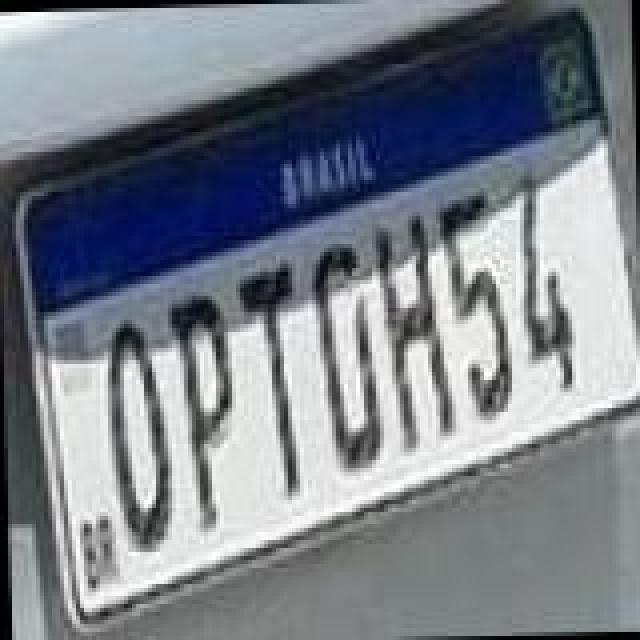4: (512, 178, 576, 398)
5: (432, 186, 512, 426)
D: (308, 238, 384, 474)
H: (374, 204, 458, 452)
O: (102, 316, 178, 552)
P: (166, 288, 242, 536)
T: (234, 254, 306, 502)
